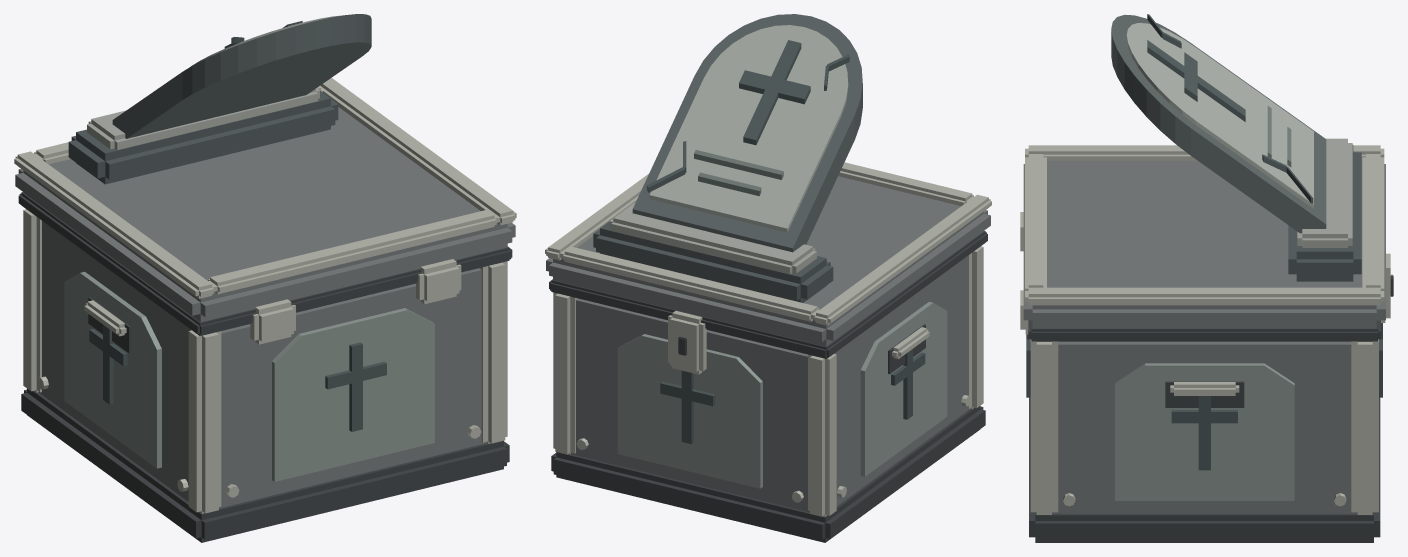
File: crate_lapide.fbx
The picture shows the model from 3 angles, left to right: view 1: azimuth 30°, elevation 25°; view 2: azimuth 150°, elevation 25°; view 3: azimuth 270°, elevation 25°; orthographic projection. The views are drawn at different scales.
Parts seen in each view (by area): view 1: crate_lapide_caixa; view 2: crate_lapide_caixa; view 3: crate_lapide_caixa.
Part boxes in pixels (x1,y1,x2,y2): crate_lapide_caixa: (14,14,516,542); crate_lapide_caixa: (545,14,991,542); crate_lapide_caixa: (1020,14,1393,542).
Size of the model in its own units: 2.68 by 3.53 by 2.7.
1 material, 1 textured.
